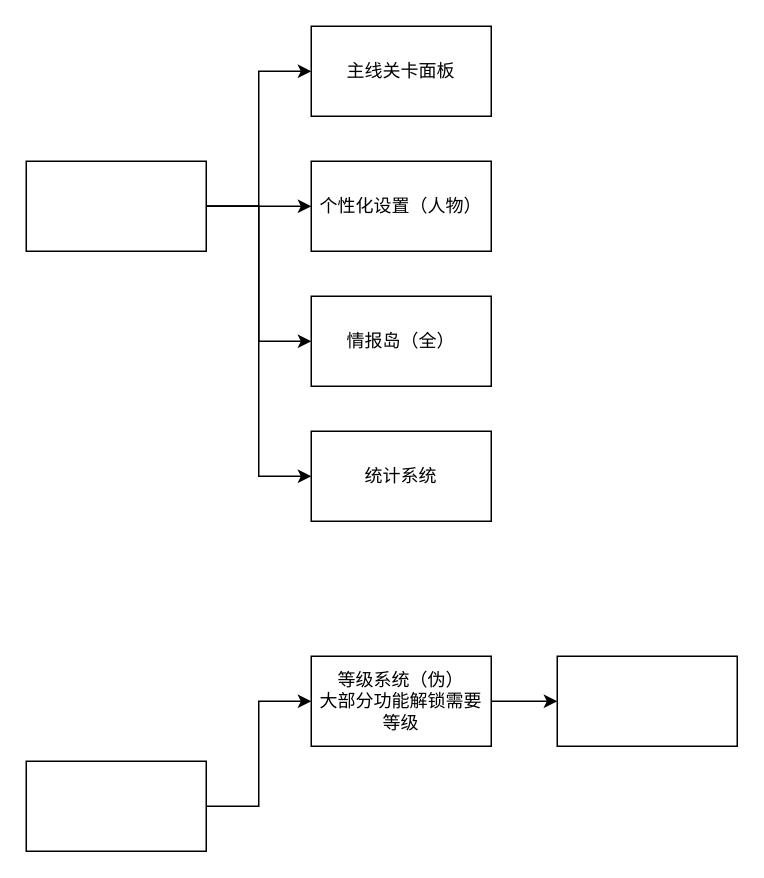
Image size: 764x878. Some labels were removed from this diagram. The box of each missing label's shape, as (x1, y1, x2, y2) in pixels:
成长系统（伪）: (25, 760, 206, 851)
美味镇: (25, 160, 206, 251)
首次通过主线关卡获得固定经验值: (556, 655, 737, 746)
